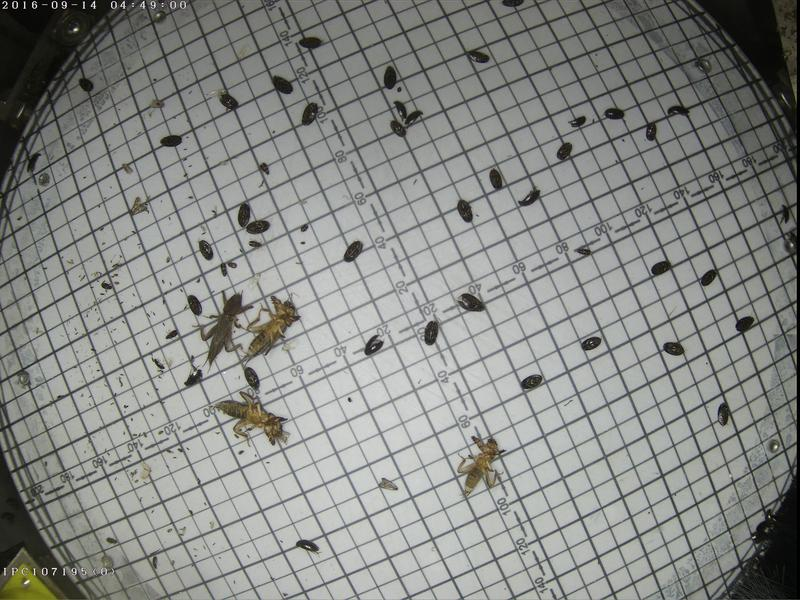Gryllotalpa orientalis: (181, 289, 253, 371), (240, 291, 303, 368), (207, 390, 287, 443), (455, 435, 508, 500)
